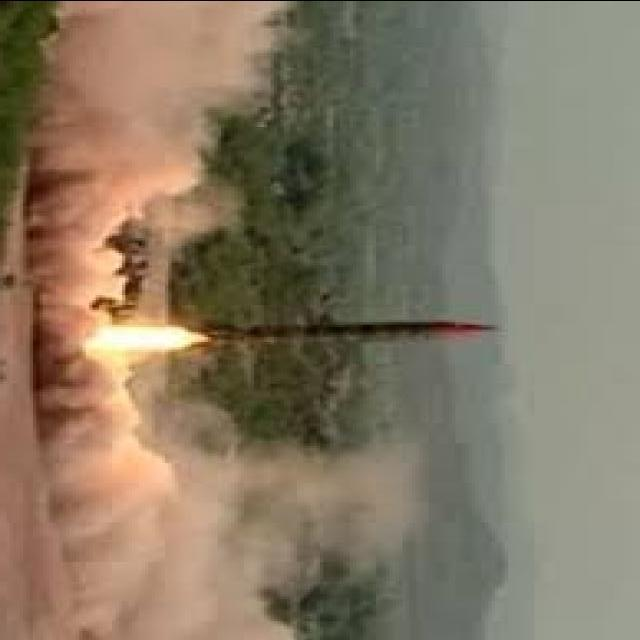missile: (193, 307, 508, 354)
